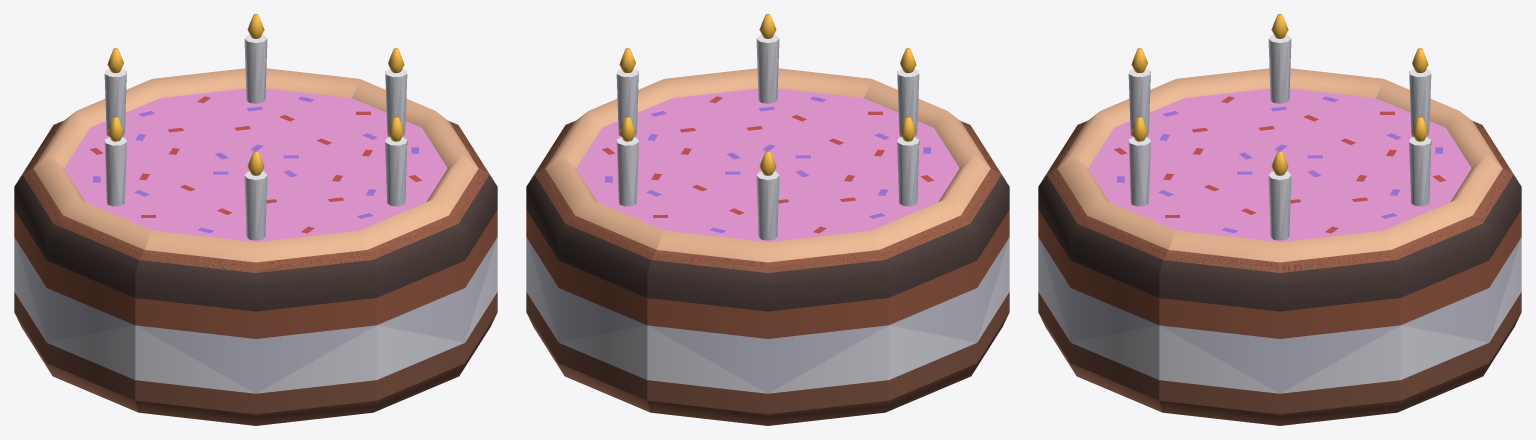
Rendered from bolo.glb.
The picture shows the model from 3 angles, left to right: view 1: azimuth 30°, elevation 25°; view 2: azimuth 150°, elevation 25°; view 3: azimuth 270°, elevation 25°; orthographic projection.
Parts seen in each view (by area): view 1: slice; view 2: slice; view 3: slice.
Boxes of the visible parts, x1,y1,x2,y2 form: slice: (14,14,497,425); slice: (526,14,1009,425); slice: (1038,14,1521,425).
Bounding box in the file's own units: 0.6392 × 0.3638 × 0.6392.
